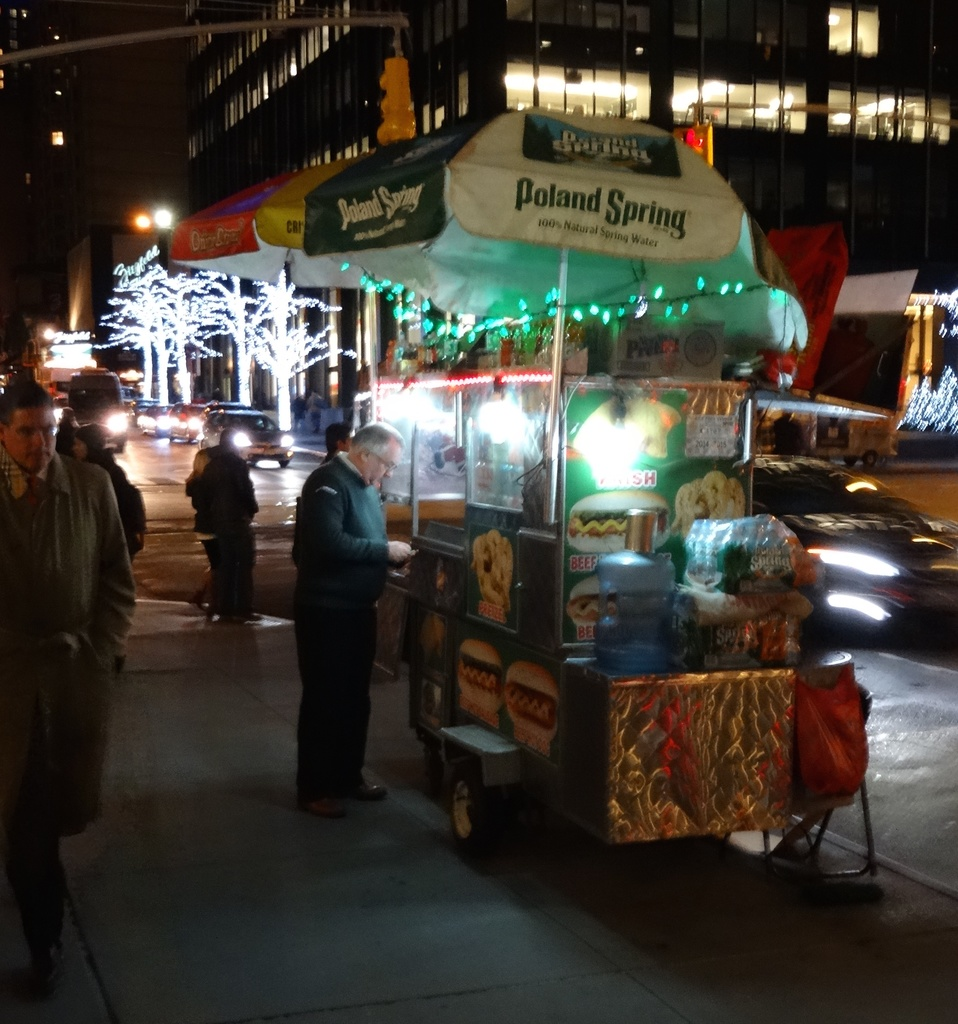Person: (0, 379, 807, 989)
